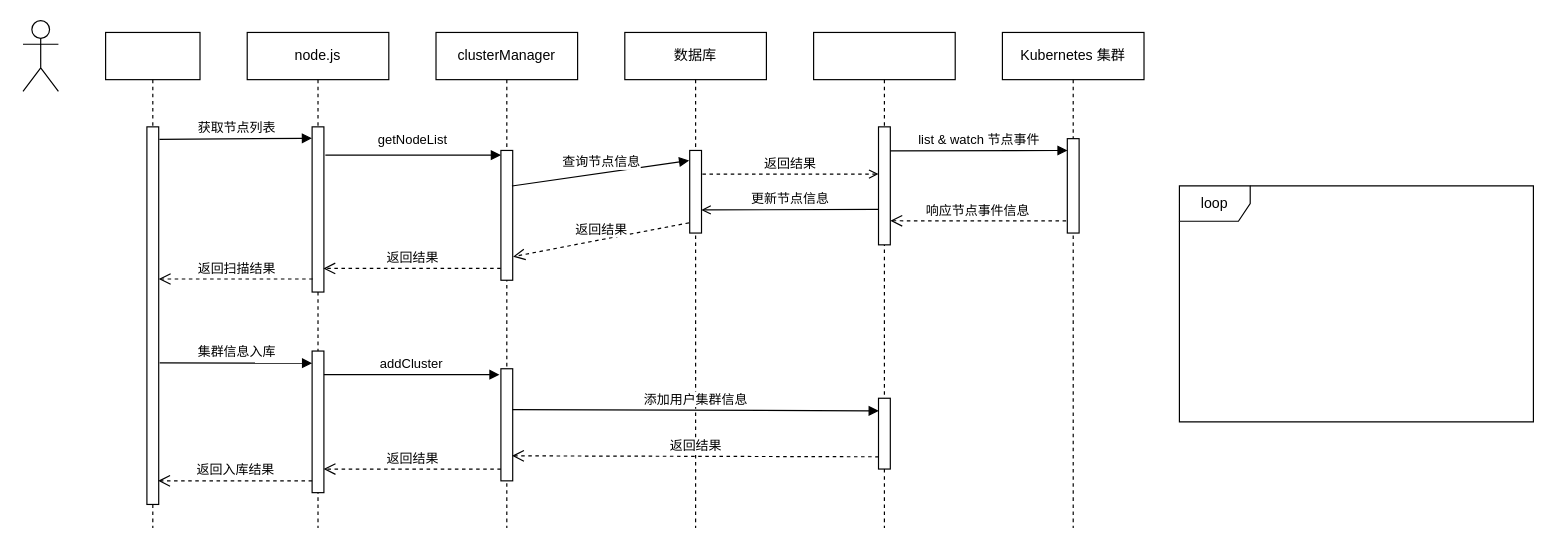
This 1554x549 diagram has some shape labels left out. The shapes that lost their labels are listed below. From the top down, each one's box as (x1, y1, x2, y2) in pixels, then its label:
(22, 19, 58, 91): Owner
(104, 31, 200, 528): 界面
(812, 31, 955, 528): syncWatcher
